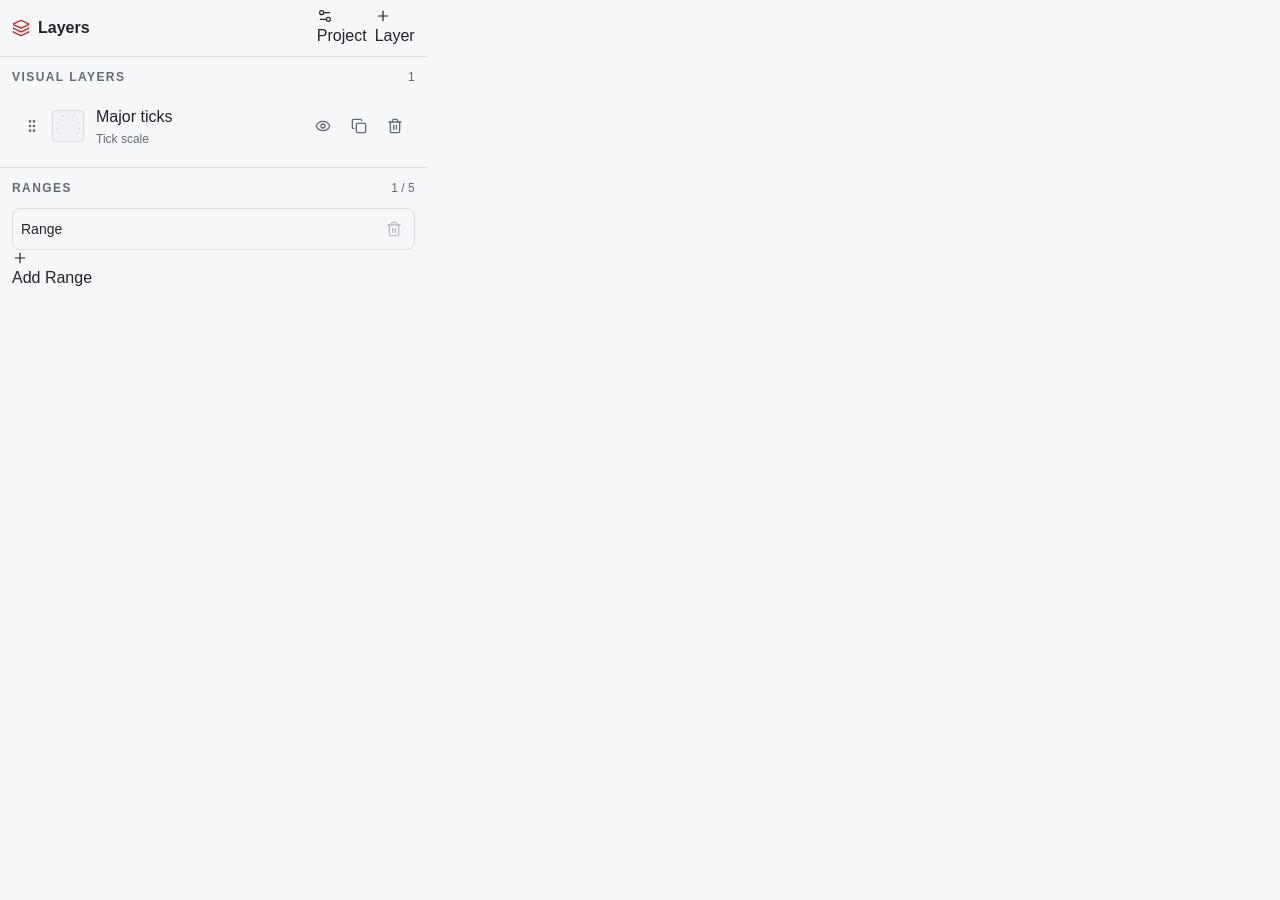
LayersBrowser › duplicates a layer with the name submitted from the modal
Click the button named "Duplicate Major ticks" at [359, 126], box x1=343 y1=110 x2=375 y2=142
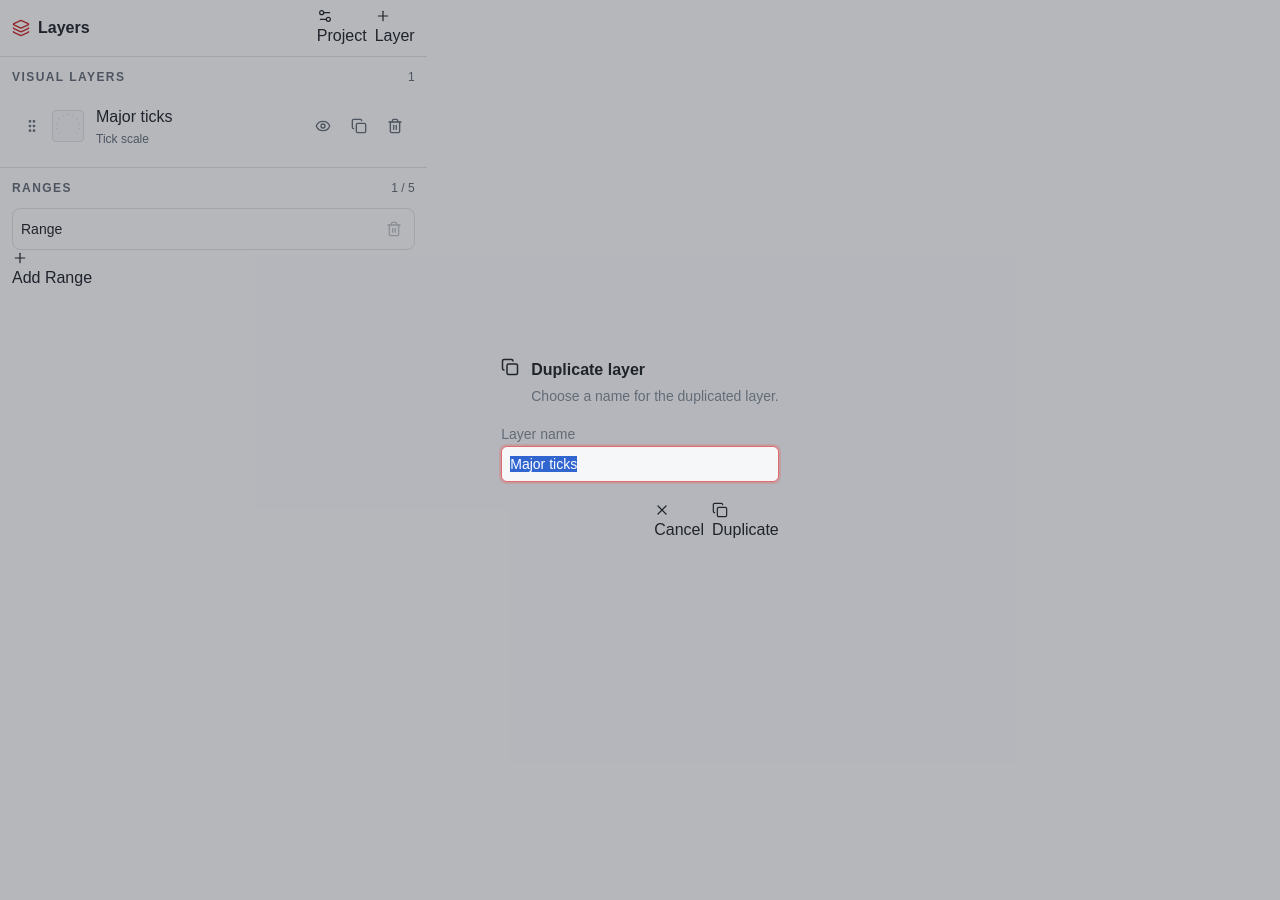
Result: the field labelled "Layer name" holds "Major ticks"
Replace the text in the field labelled "Layer name" with "Copied markers" at [640, 464], box x1=501 y1=446 x2=779 y2=482
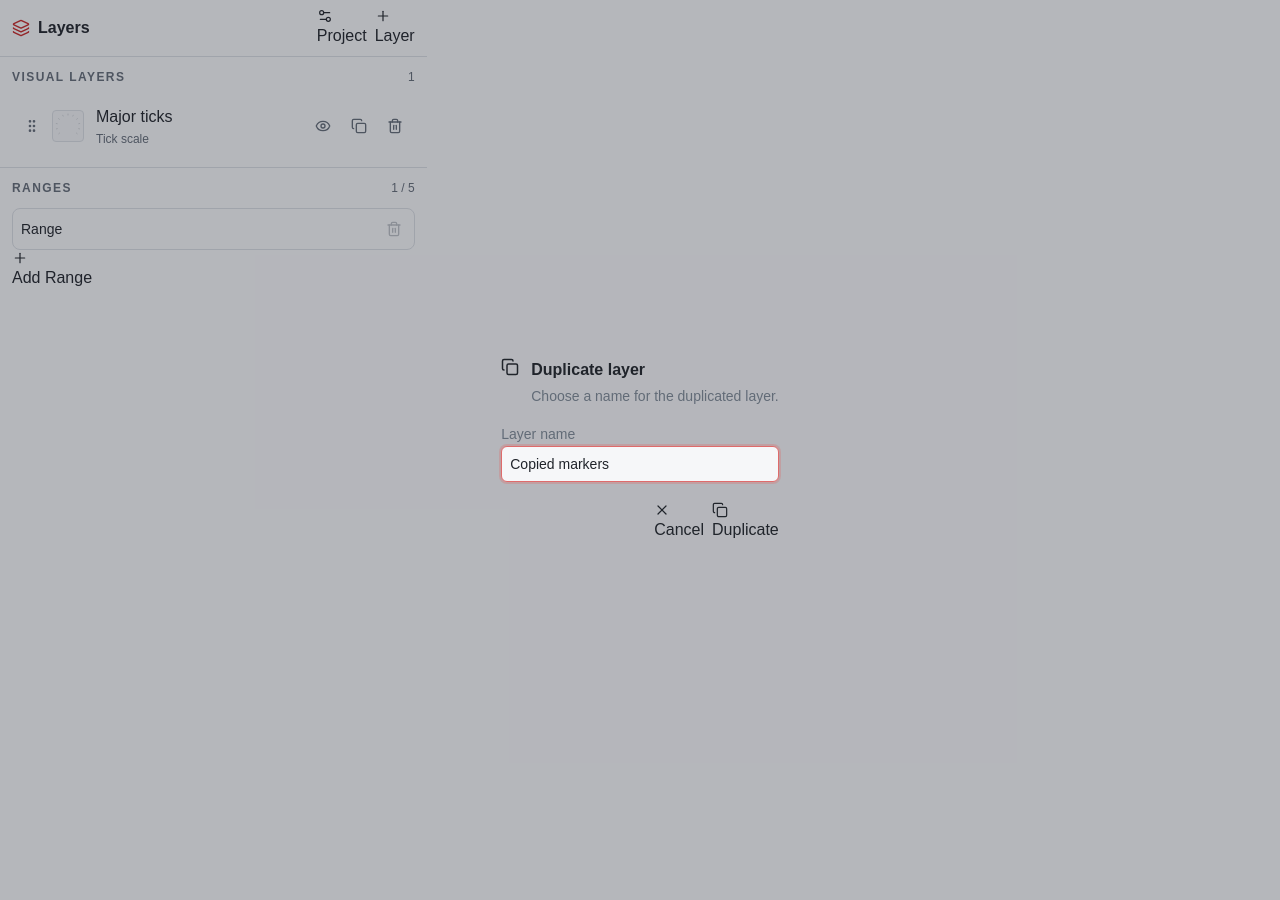
Click the button "Duplicate" at [745, 522], box x1=712 y1=502 x2=779 y2=542
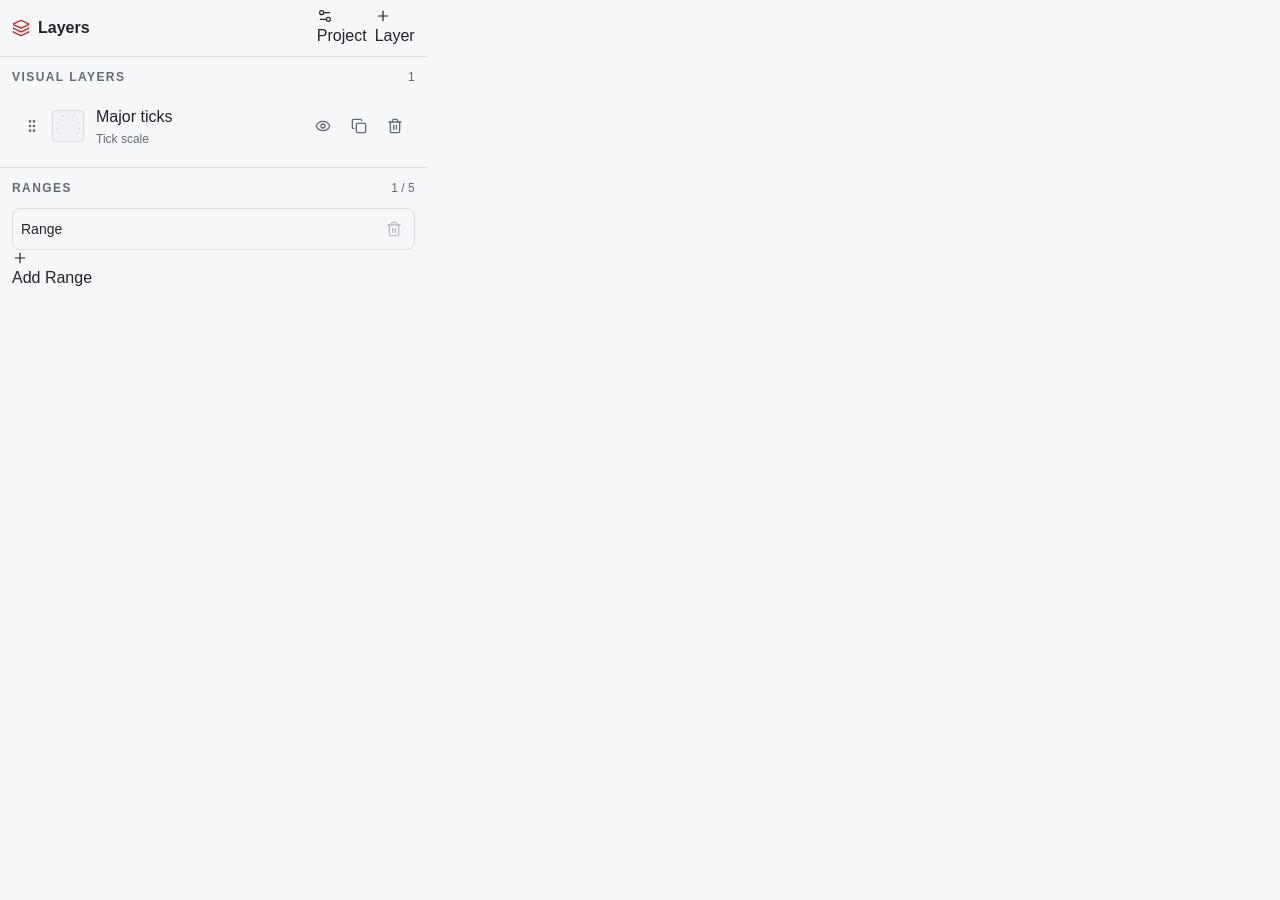
Result: the dialog is gone
